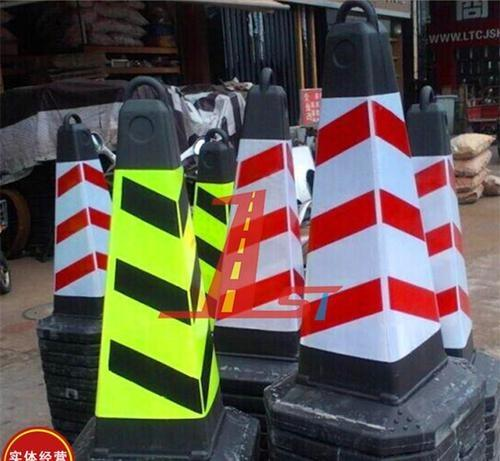cone_barrel: (289, 16, 445, 402), (83, 109, 236, 459), (204, 82, 303, 372), (404, 96, 489, 371), (45, 117, 110, 327)
